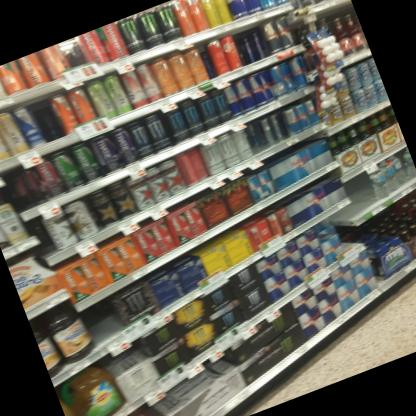empty_space: (80, 298, 133, 353), (339, 170, 382, 224)
